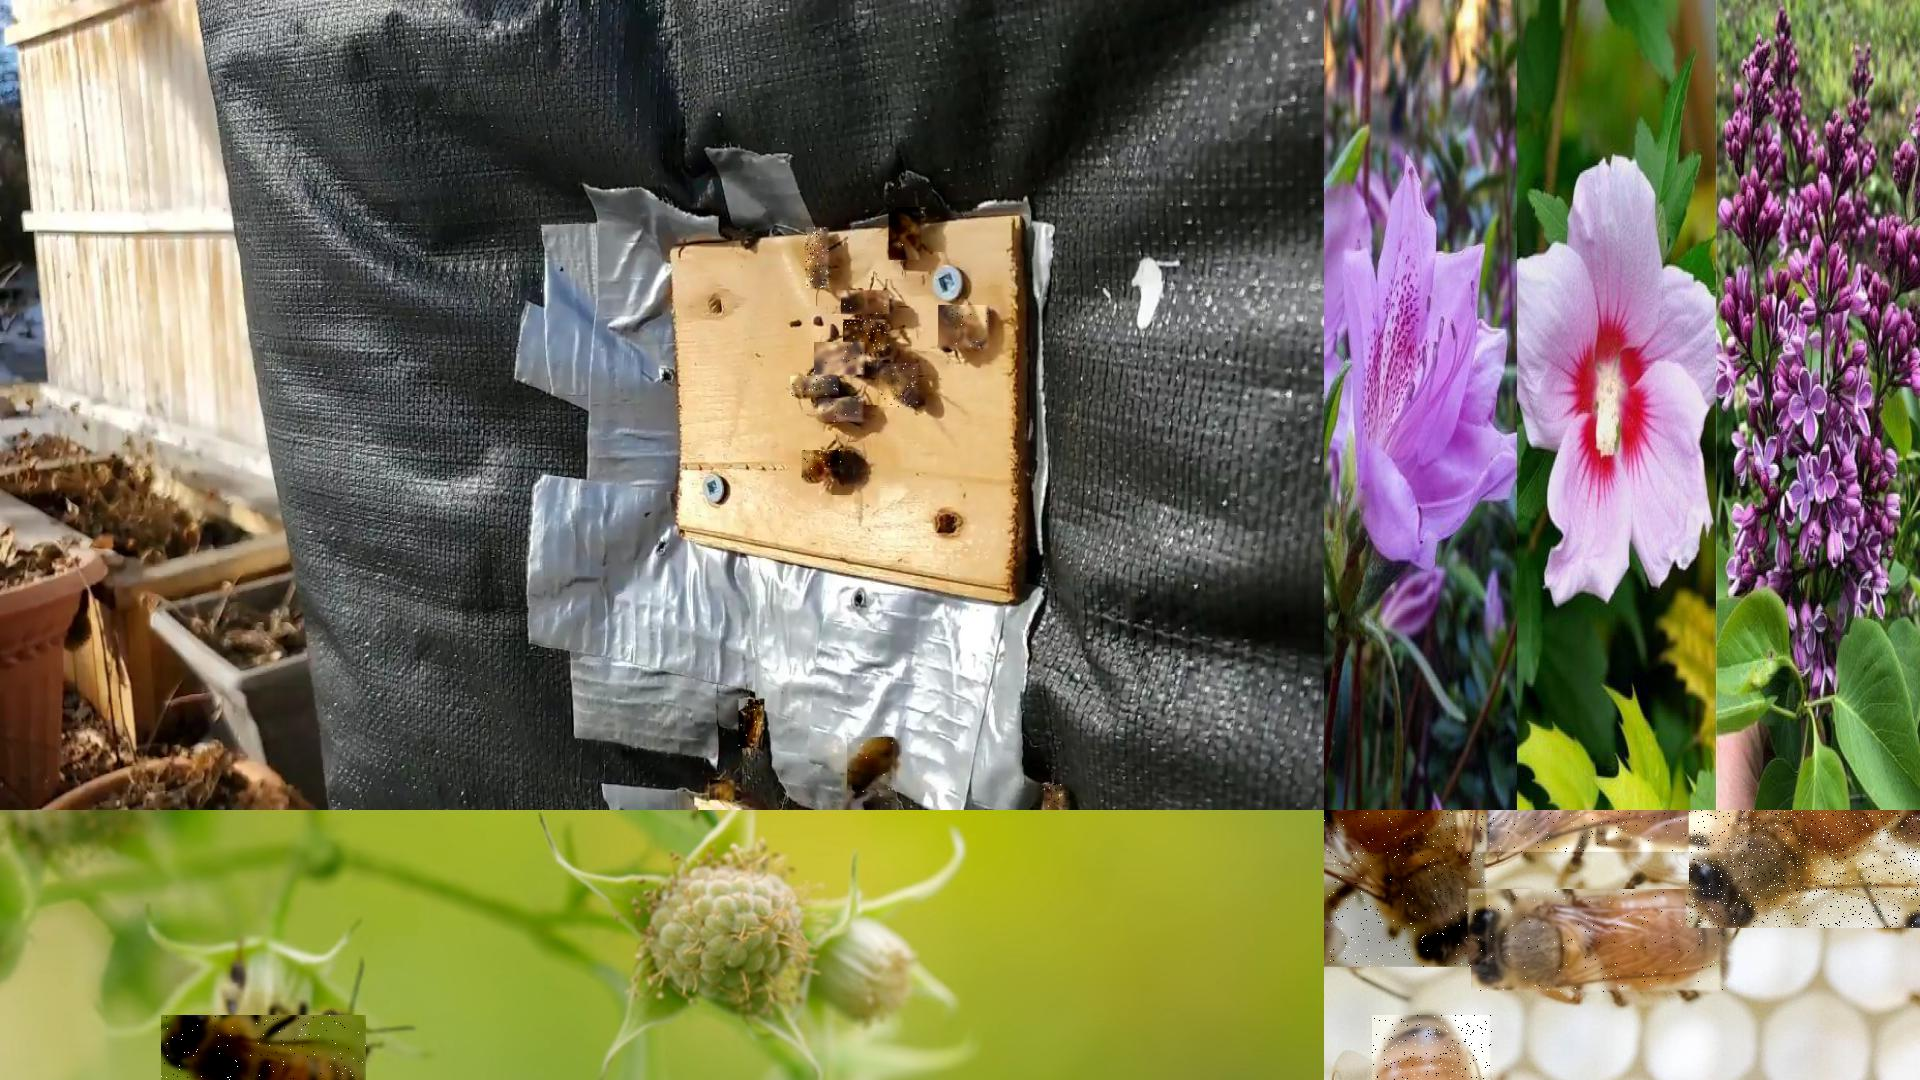bee: (1689, 810, 1919, 930), (1472, 890, 1725, 994), (1324, 810, 1489, 969), (161, 1015, 368, 1079), (1458, 810, 1750, 855), (1371, 1015, 1494, 1079), (848, 738, 897, 794), (939, 306, 992, 352), (889, 207, 924, 261), (881, 364, 922, 409), (815, 343, 868, 376), (844, 320, 890, 355), (806, 227, 829, 289), (738, 699, 766, 750), (802, 451, 843, 481), (841, 290, 890, 315), (819, 398, 866, 423), (790, 376, 840, 398), (711, 779, 740, 802), (1044, 785, 1069, 808)
